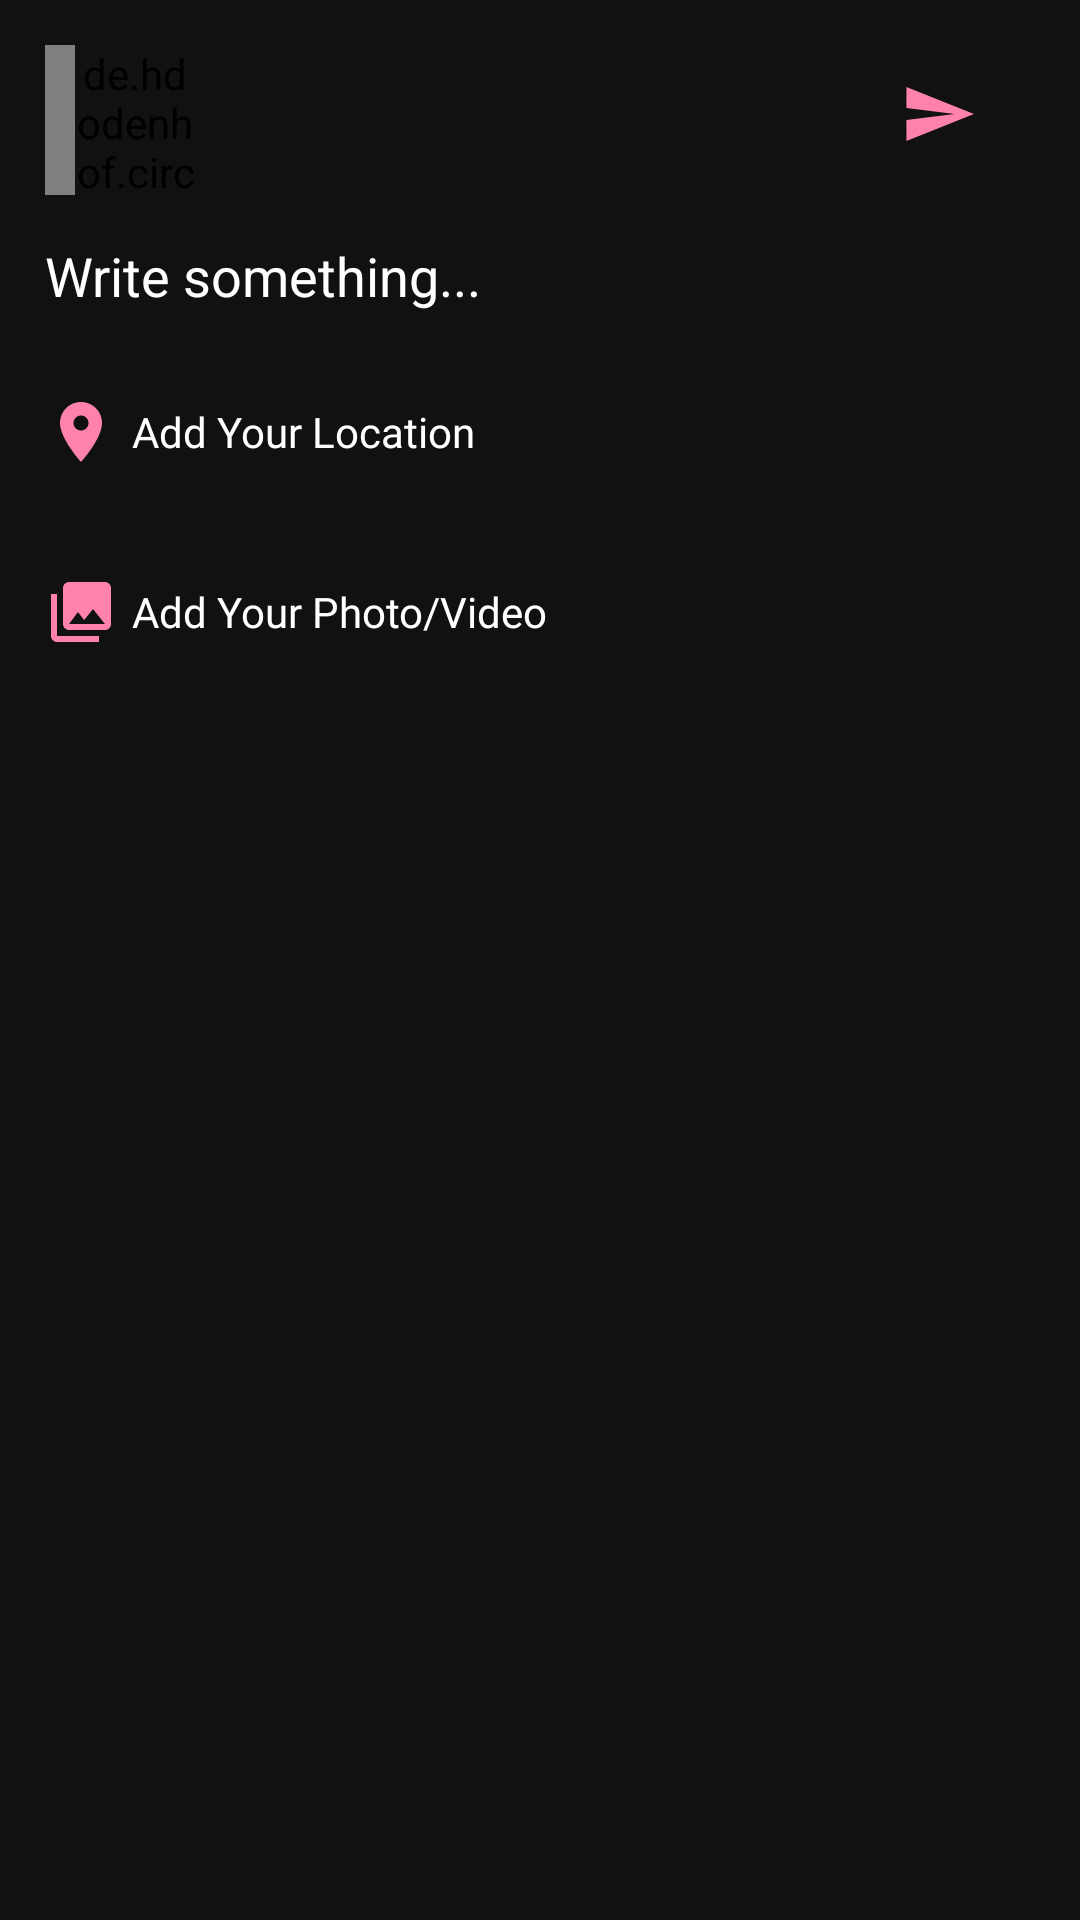

Icon bounding boxes for this 1080px×1920px phone screenshot, format box(x1, y1, x2, y2):
location on: box(60, 402, 102, 462)
photo library: box(51, 582, 111, 642)
send: box(906, 87, 974, 141)
